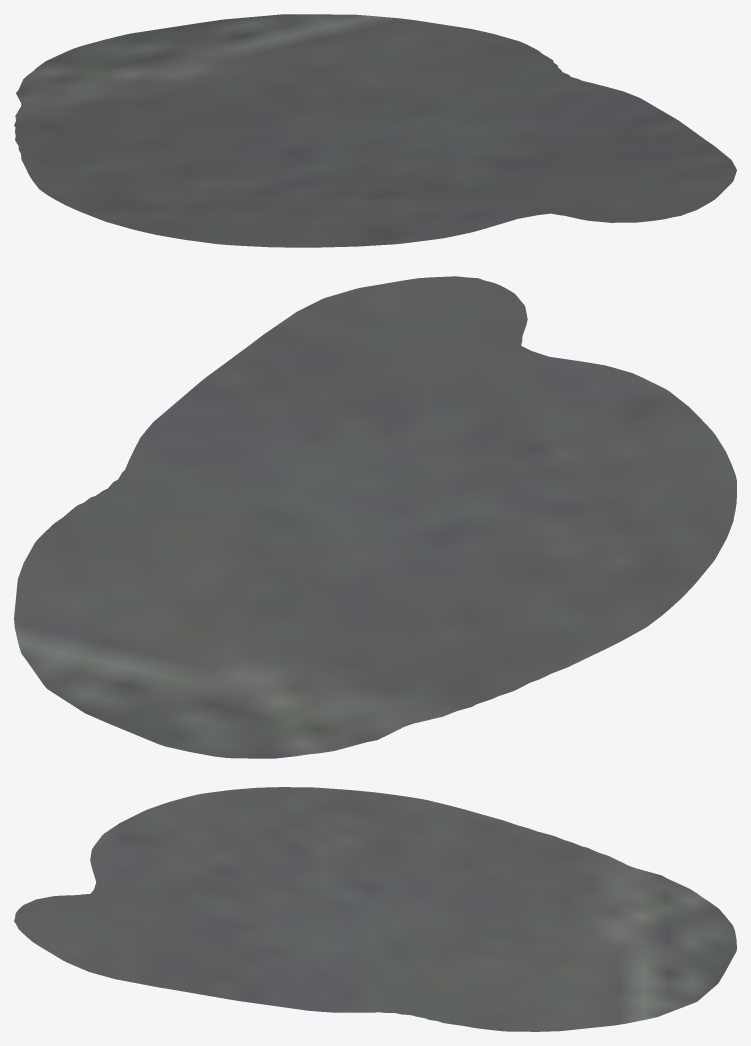
File: Stump_LeftLeg.gltf
3 renders of one model, top to bottom at view 1: azimuth 30°, elevation 25°; view 2: azimuth 150°, elevation 25°; view 3: azimuth 270°, elevation 25°, orthographic. The views are drawn at different scales.
Visible parts, largest first — view 1: Stump_LeftLeg; view 2: Stump_LeftLeg; view 3: Stump_LeftLeg.
Part boxes in pixels (x1,y1,x2,y2): Stump_LeftLeg: [14, 14, 736, 247]; Stump_LeftLeg: [14, 276, 736, 758]; Stump_LeftLeg: [14, 787, 736, 1031].
Bounding box in the file's own units: 0.1479 × 0.0256 × 0.2028.
Materials: 1 (1 with a texture image).
